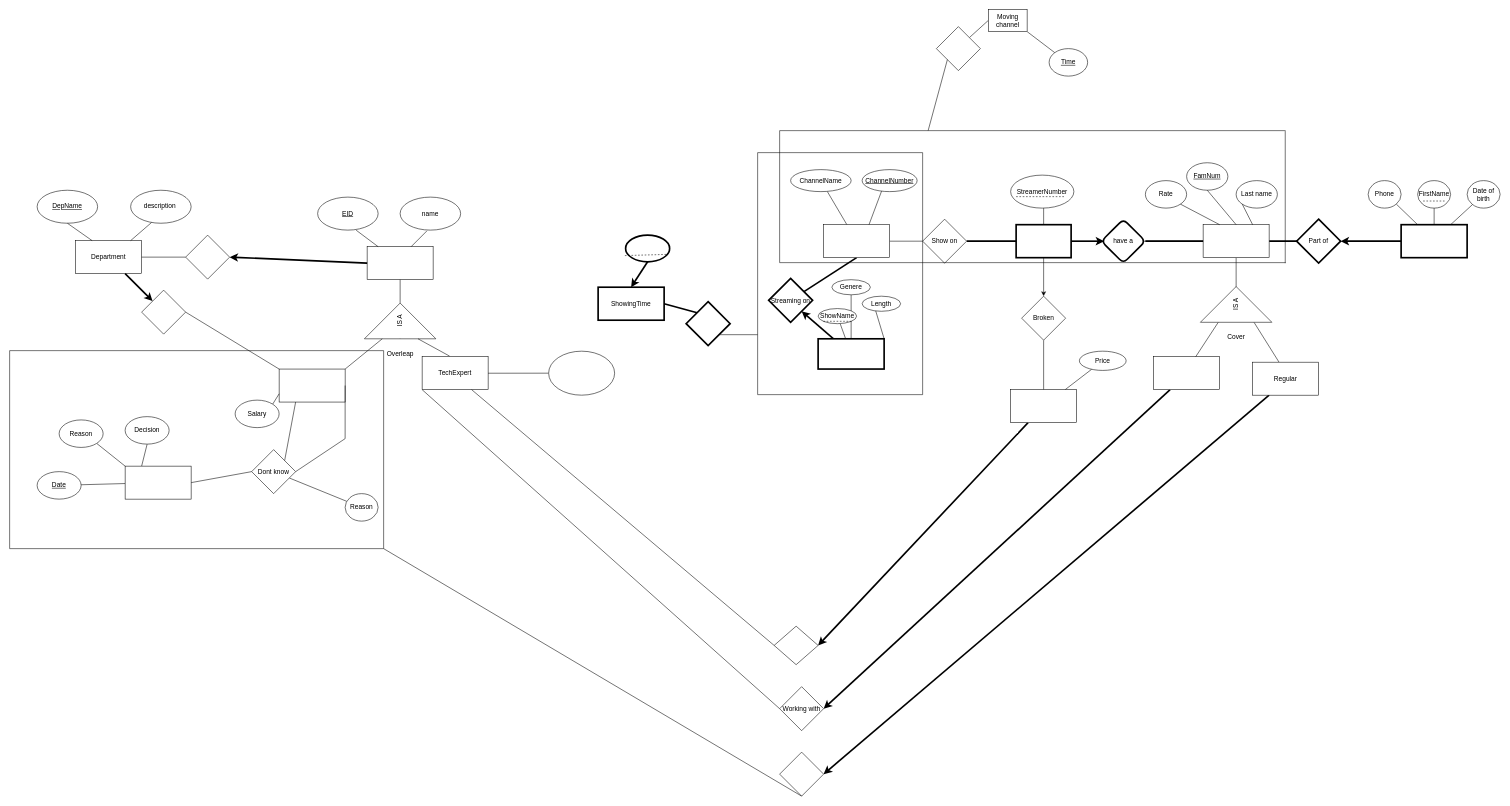
Some shapes in this 1510 by 806 pixel diagram are drawn without their labels. Each missing label, with the centre of its shape:
"Belong to" belongs at (207,257).
"Broke" belongs at (1043,406).
"Channel" belongs at (856,241).
"Employee" belongs at (400,263).
"ExpertSection" belongs at (581,373).
"Family" belongs at (1236,241).
"FamilyGuy" belongs at (1434,241).
"Fixed by" belongs at (796,645).
"Mange by" belongs at (163,312).
"manger" belongs at (312,385).
"Moving to" belongs at (958,48).
"Premium" belongs at (1186,373).
"Quitting application" belongs at (801,774).
"QuittingRequest" belongs at (158,482).
"Show" belongs at (851,354).
"Showing at" belongs at (708,323).
"ShowiTime" belongs at (647,248).
"Stramer" belongs at (1043,241).
